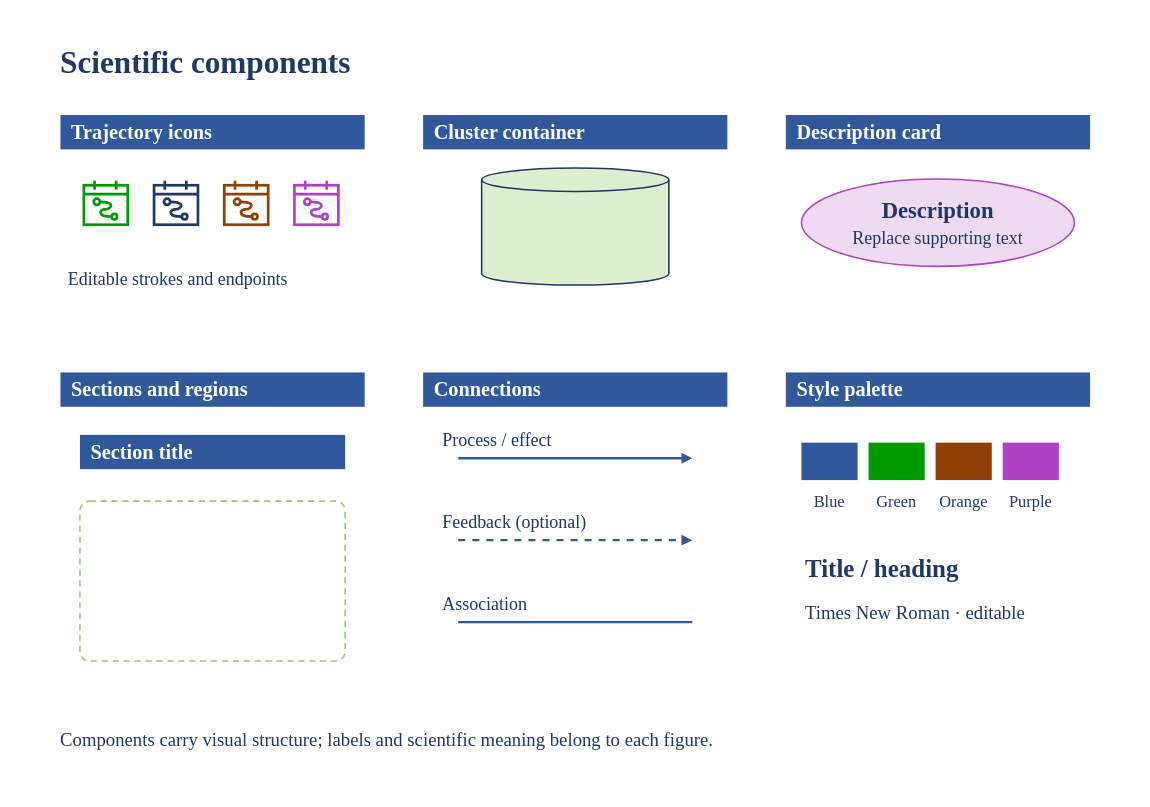
The diagram is 1150 pixels wide and 807 high, and some of its shapes have lost their labels. The centre of each missing label's shape, as x and y in pixels:
Cluster: point 574,226
Region: point 212,580
